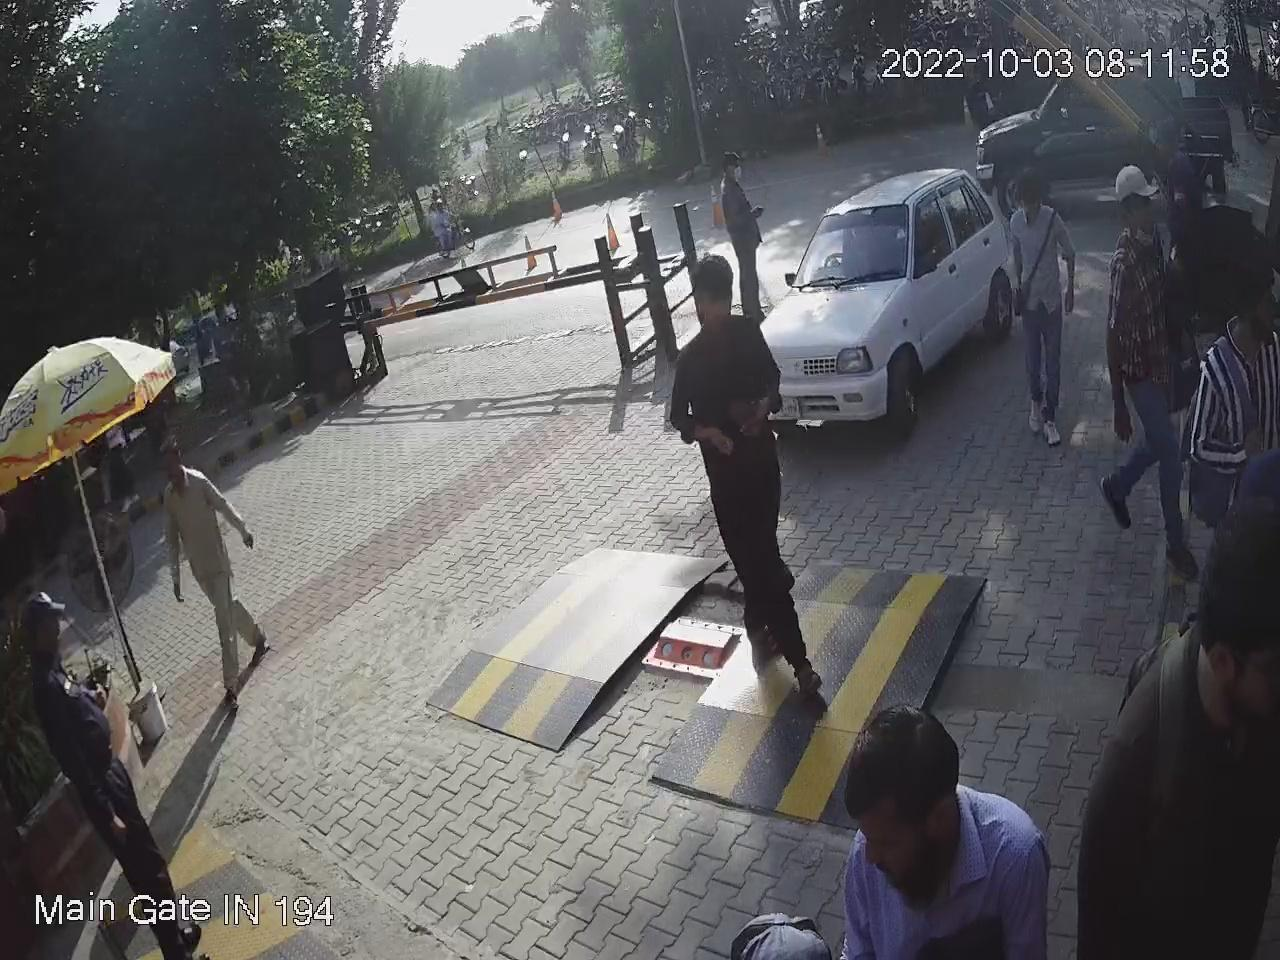windshield: (798, 193, 918, 290)
